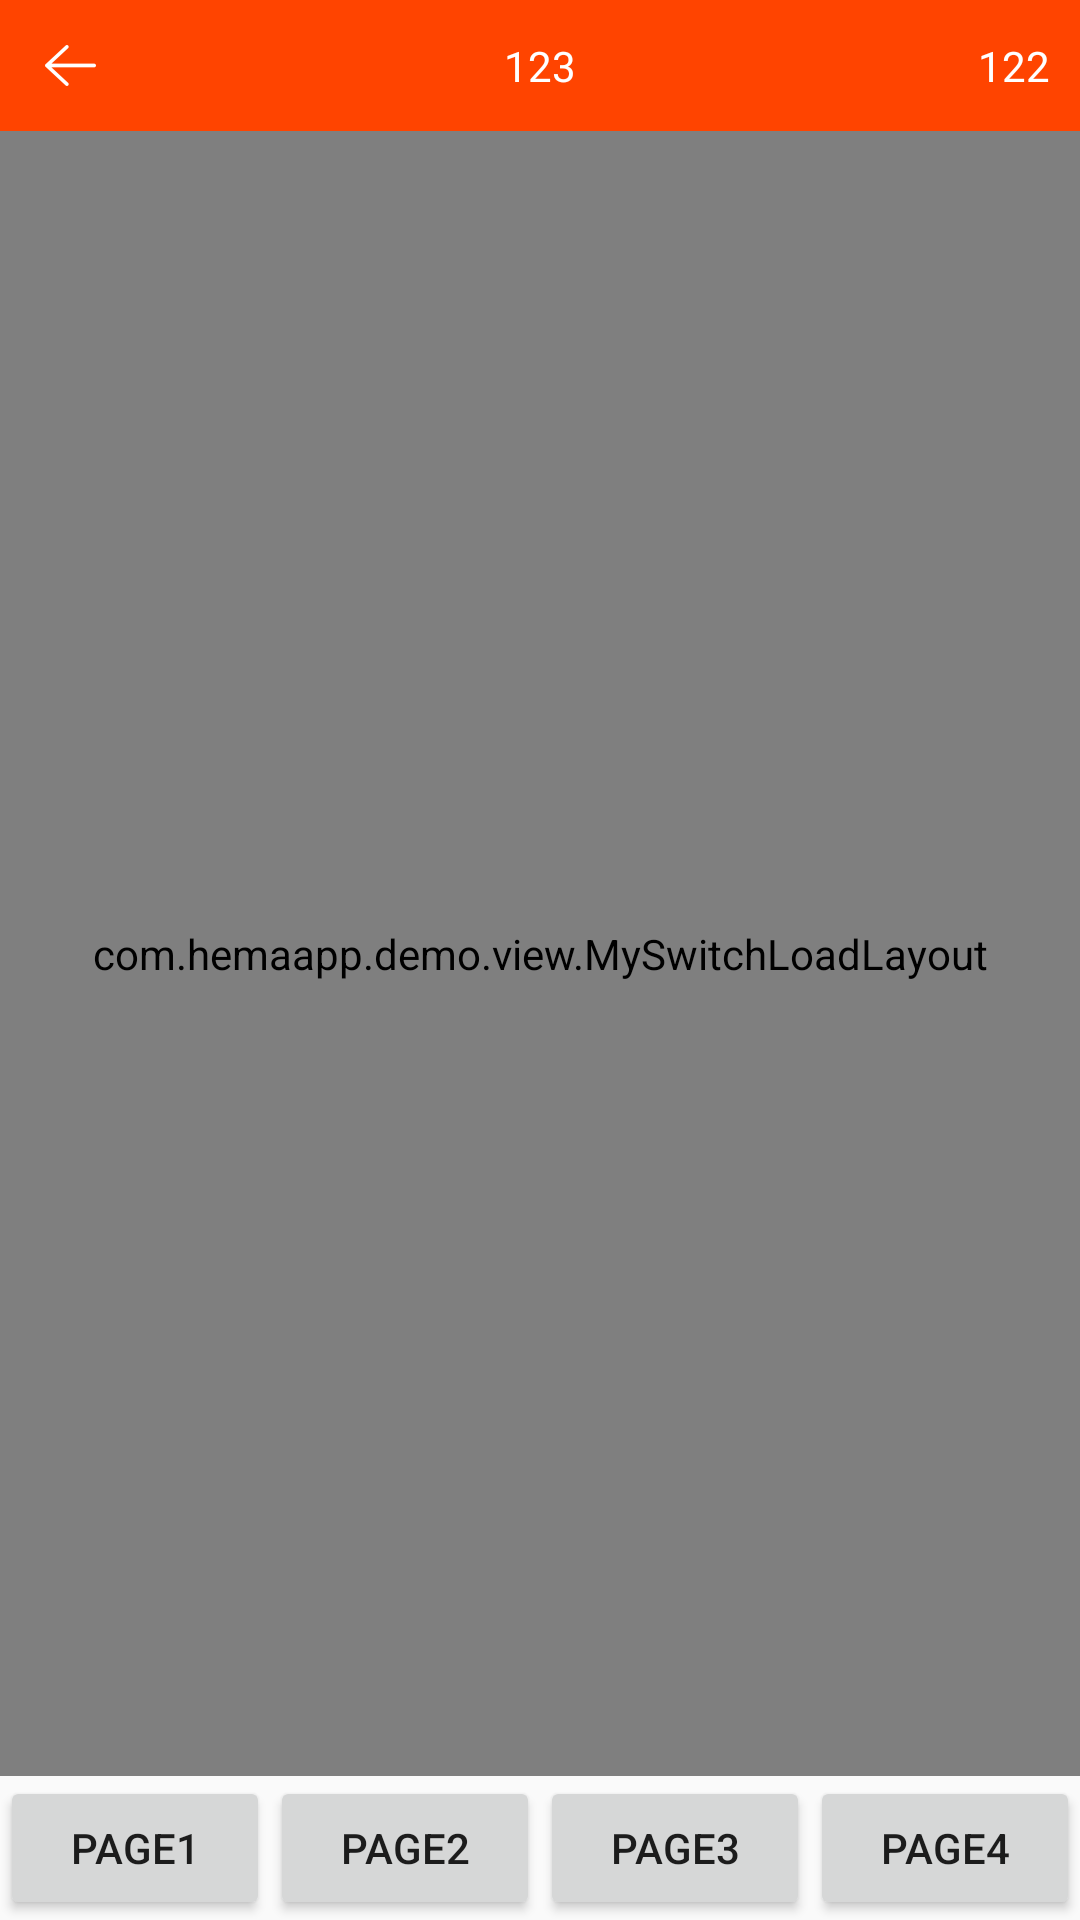

Icons on this 1080w x 1920h Android screen, each with its box as (x1, y1, x2, y2):
quit: (45, 45, 96, 86)
